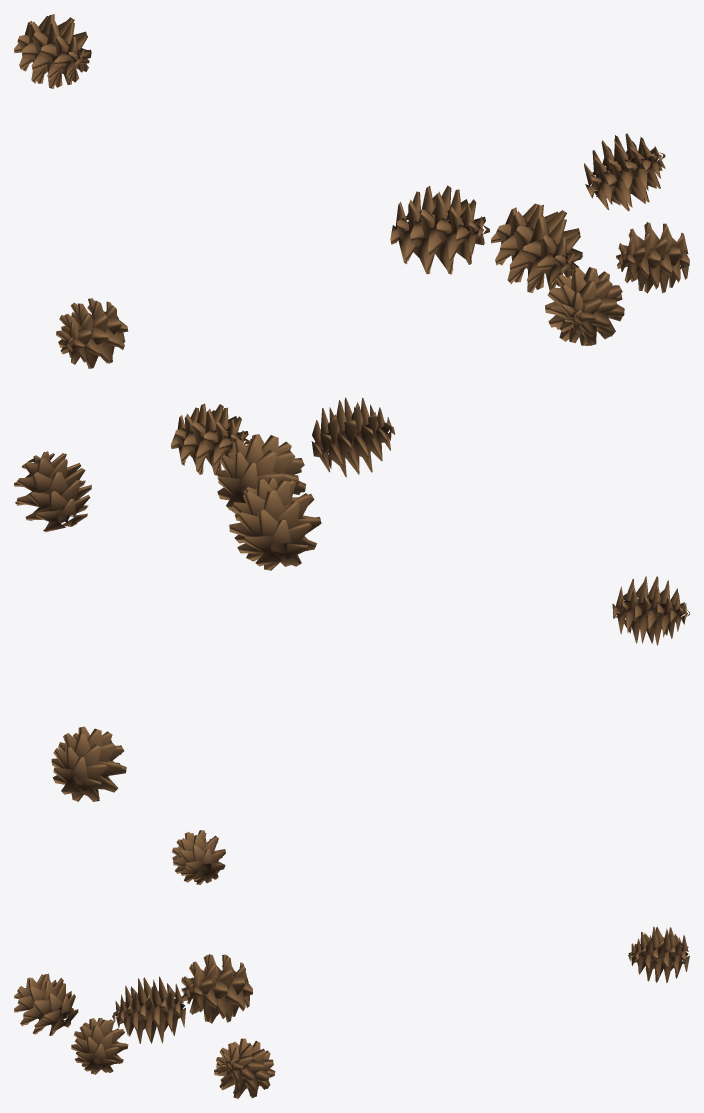
The model's file is pinecones-pine-a.lod0.glb.
3 views of the same model, one above another, from view 1: azimuth 30°, elevation 25°; view 2: azimuth 150°, elevation 25°; view 3: azimuth 270°, elevation 25° (orthographic). The views are drawn at different scales.
Size of the model in its own units: 0.5136 by 0.065 by 0.6144.
